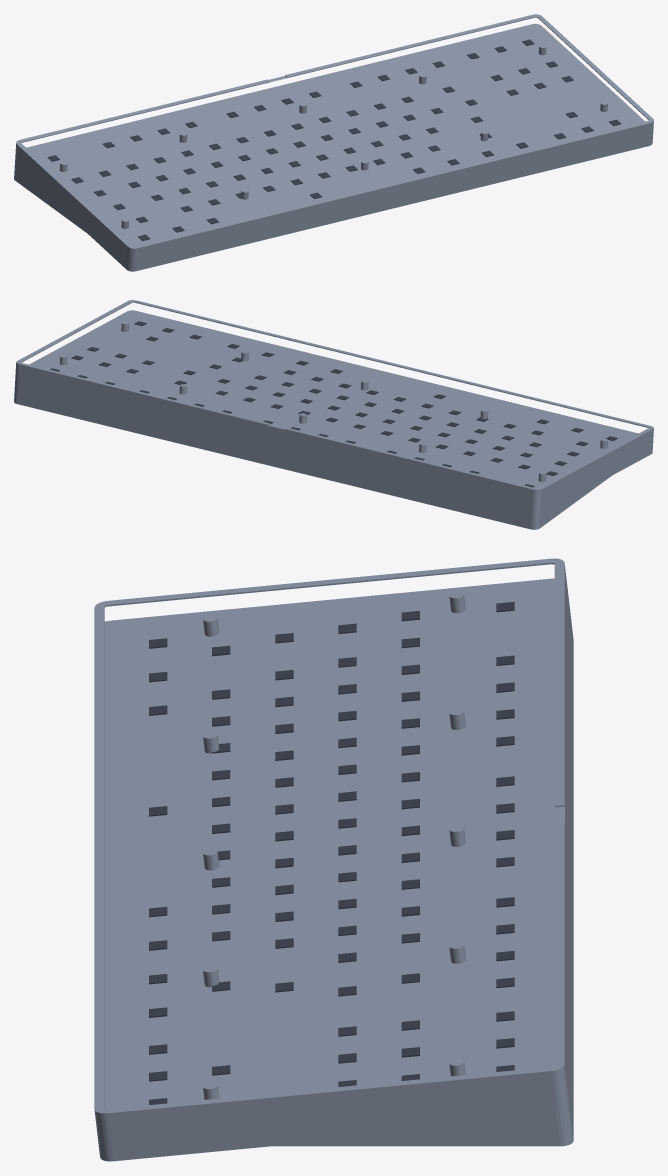
Rendered from reference-tkl.glb.
3 renders of one model, top to bottom at view 1: azimuth 30°, elevation 25°; view 2: azimuth 150°, elevation 25°; view 3: azimuth 270°, elevation 25°, orthographic. The views are drawn at different scales.
Visible parts, largest first — view 1: bottomCase/case-bottom, topCase/case-top, switches/switches; view 2: bottomCase/case-bottom, switches/switches, topCase/case-top; view 3: bottomCase/case-bottom, switches/switches, topCase/case-top.
Part boxes in pixels (x1,y1,x2,y2): bottomCase/case-bottom: (14,14,653,263); topCase/case-top: (15,136,652,271); switches/switches: (47,39,621,240); bottomCase/case-bottom: (14,300,653,529); switches/switches: (50,321,617,487); topCase/case-top: (15,378,652,514); bottomCase/case-bottom: (94,558,573,1146); switches/switches: (149,601,514,1104); topCase/case-top: (98,1095,568,1161).
Size of the model in its own units: 1.19e+07 by 1077065 by 4708346.
